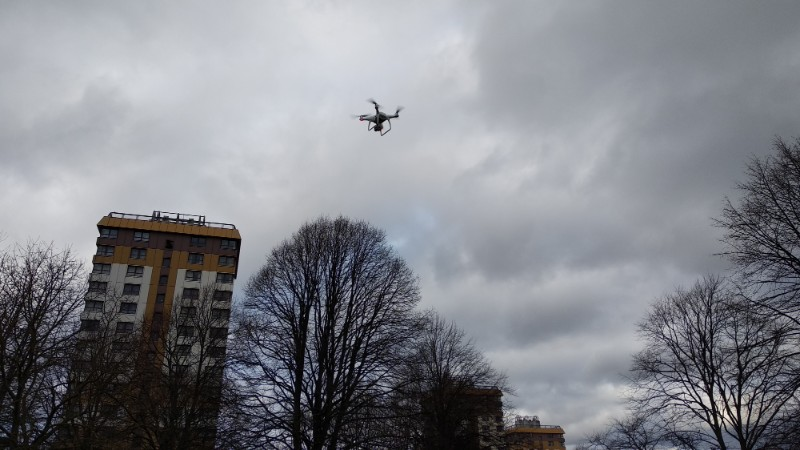drone: (352, 97, 410, 136)
